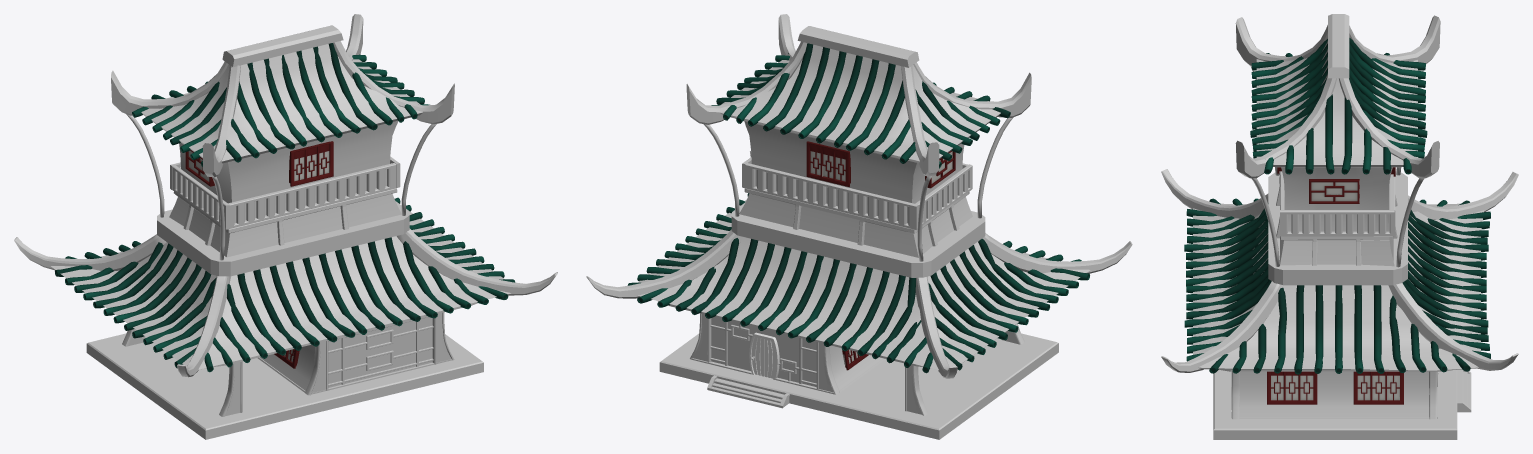
The model's file is Building03_v7.fbx.
3 renders of one model, left to right at view 1: azimuth 30°, elevation 25°; view 2: azimuth 150°, elevation 25°; view 3: azimuth 270°, elevation 25°, orthographic. The views are drawn at different scales.
Parts seen in each view (by area): view 1: Building03; view 2: Building03; view 3: Building03.
Part boxes in pixels (x1,y1,x2,y2): Building03: [14, 14, 557, 439]; Building03: [586, 14, 1132, 439]; Building03: [1161, 14, 1518, 439].
Size of the model in its own units: 1784 by 1436 by 1415.
